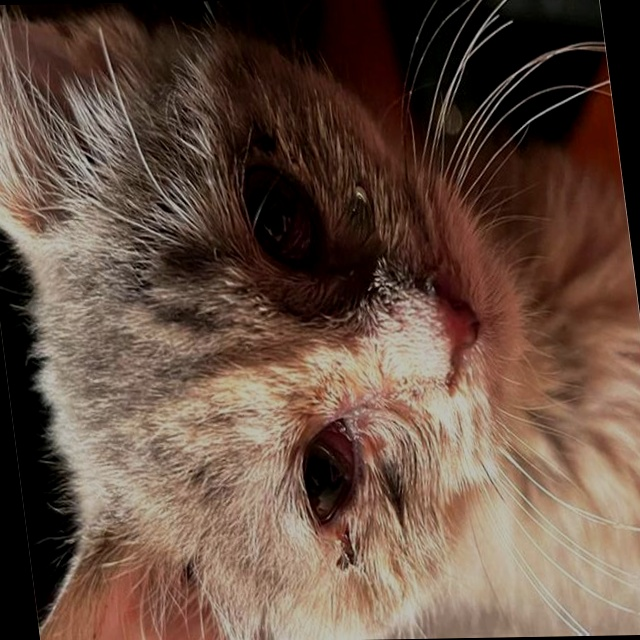eye_infection: (300, 418, 368, 516), (242, 171, 316, 259)
